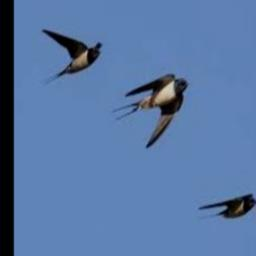Swallow: (110, 73, 188, 147), (41, 29, 101, 85), (197, 194, 256, 219)
